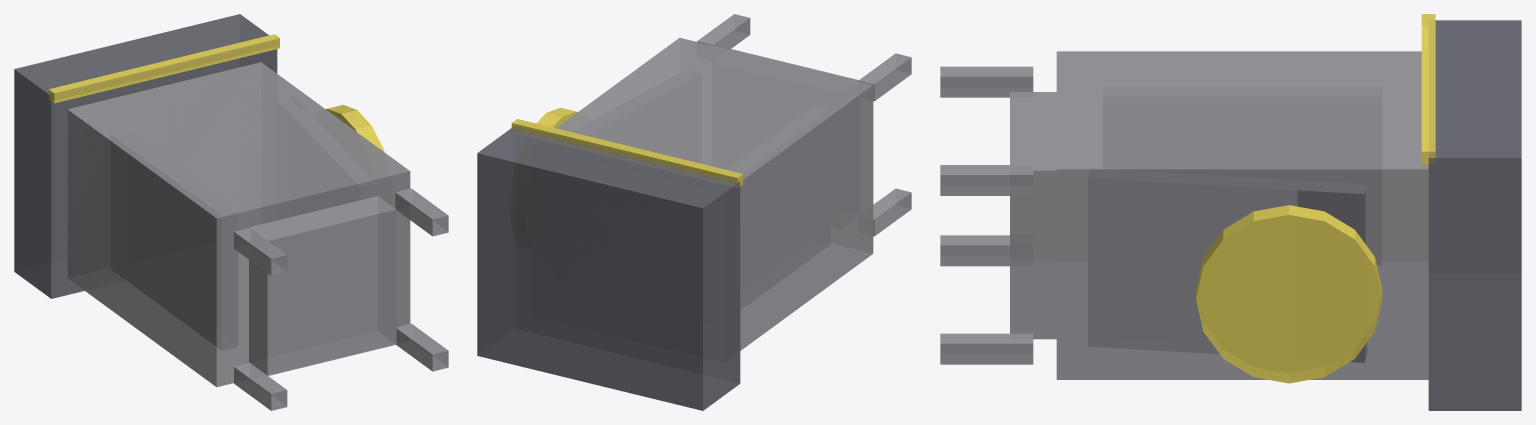
The model's file is jaw_crusher.glb.
3 renders of one model, left to right at view 1: azimuth 30°, elevation 25°; view 2: azimuth 150°, elevation 25°; view 3: azimuth 270°, elevation 25°, orthographic. The views are drawn at different scales.
Parts seen in each view (by area): view 1: CrusherBody, Hopper, Chute, JawFixed, JawMovable, SafetyStripe, Leg_-2.5_-2, Leg_-2.5_2, Leg_2.5_2, Leg_2.5_-2, Flywheel; view 2: CrusherBody, Hopper, JawFixed, JawMovable, Chute, SafetyStripe, Leg_-2.5_2, Leg_-2.5_-2, Leg_2.5_2, Flywheel; view 3: CrusherBody, Hopper, JawMovable, JawFixed, Flywheel, Chute, Leg_2.5_-2, Leg_2.5_2, Leg_-2.5_2, SafetyStripe, Leg_-2.5_-2.
Part boxes in pixels (box(x1,y1,x2,y2)): CrusherBody: box(67, 62, 410, 387); Hopper: box(14, 14, 277, 298); Chute: box(249, 196, 396, 375); JawFixed: box(111, 130, 237, 349); JawMovable: box(277, 98, 376, 219); SafetyStripe: box(48, 34, 279, 103); Leg_-2.5_-2: box(234, 363, 287, 410); Leg_-2.5_2: box(234, 228, 287, 275); Leg_2.5_2: box(395, 188, 448, 236); Leg_2.5_-2: box(396, 323, 448, 371); Flywheel: box(326, 105, 384, 151); CrusherBody: box(531, 37, 873, 361); Hopper: box(477, 126, 740, 410); JawFixed: box(727, 106, 829, 308); JawMovable: box(575, 69, 701, 163); Chute: box(712, 49, 858, 227); SafetyStripe: box(511, 119, 742, 187); Leg_-2.5_2: box(858, 53, 911, 101); Leg_-2.5_-2: box(873, 188, 911, 236); Leg_2.5_2: box(697, 14, 750, 49); Flywheel: box(536, 107, 577, 128); CrusherBody: box(1056, 51, 1428, 379); Hopper: box(1428, 20, 1521, 410); JawMovable: box(1088, 169, 1366, 362); JawFixed: box(1103, 87, 1381, 264); Flywheel: box(1196, 205, 1382, 383); Chute: box(1010, 92, 1056, 339); Leg_2.5_-2: box(940, 333, 1033, 364); Leg_2.5_2: box(940, 165, 1033, 195); Leg_-2.5_2: box(940, 66, 1033, 97); SafetyStripe: box(1421, 14, 1435, 164); Leg_-2.5_-2: box(940, 235, 1009, 266).
Size of the model in its own units: 7.75 by 6.15 by 12.5.
